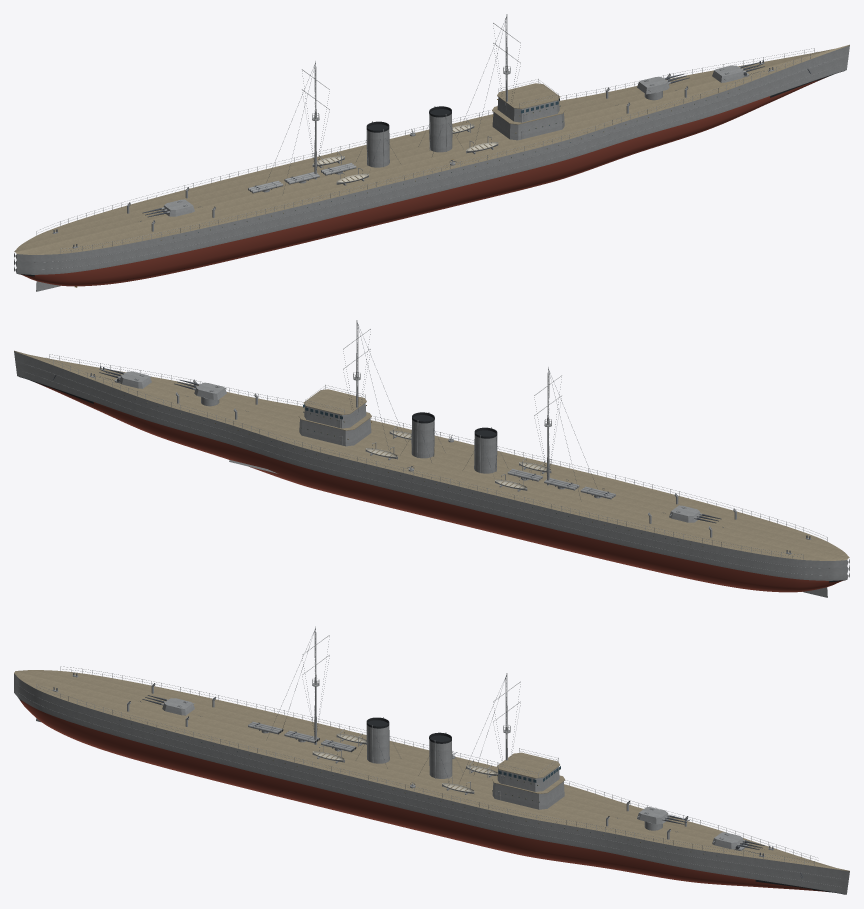
Rendered from ecole_cl29.glb.
The picture shows the model from 3 angles, top to bottom: view 1: azimuth 30°, elevation 25°; view 2: azimuth 150°, elevation 25°; view 3: azimuth 330°, elevation 25°; orthographic projection.
Parts seen in each view (by area): view 1: Éclaireur fast cruiser; view 2: Éclaireur fast cruiser; view 3: Éclaireur fast cruiser.
Part boxes in pixels (x1,y1,x2,y2): Éclaireur fast cruiser: [14, 14, 849, 291]; Éclaireur fast cruiser: [14, 320, 849, 597]; Éclaireur fast cruiser: [14, 626, 849, 894].
Size of the model in its own units: 181 by 34.16 by 17.49.
Materials: 8 (2 with a texture image).
